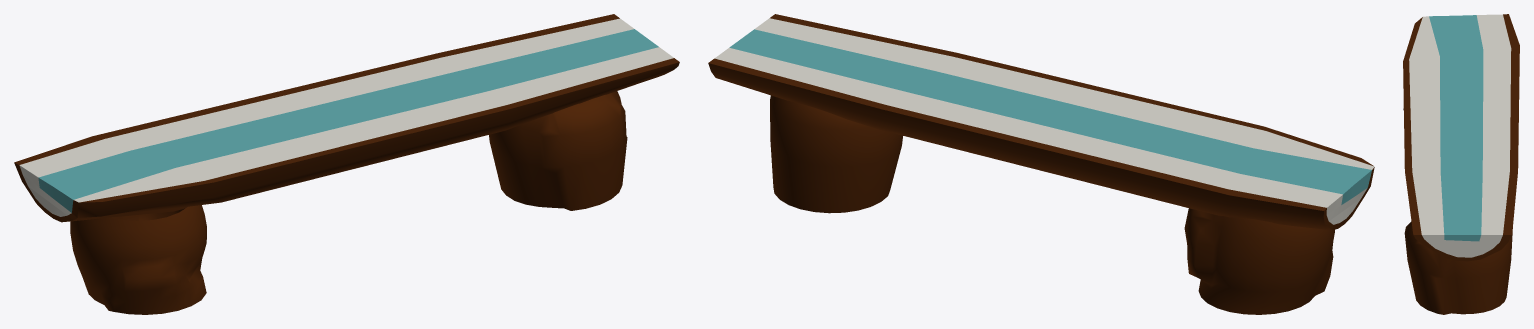
Rendered from Enviro_LogBenche.fbx.
3 renders of one model, left to right at view 1: azimuth 30°, elevation 25°; view 2: azimuth 150°, elevation 25°; view 3: azimuth 270°, elevation 25°, orthographic. The views are drawn at different scales.
Parts seen in each view (by area): view 1: LogBench_BenchTop2, LogBench_Leg6, LogBench_Leg5; view 2: LogBench_BenchTop2, LogBench_Leg6, LogBench_Leg5; view 3: LogBench_BenchTop2, LogBench_Leg5.
Boxes of the visible parts, bbox=[...] form: LogBench_BenchTop2: bbox=[14, 14, 679, 222]; LogBench_Leg6: bbox=[70, 205, 206, 314]; LogBench_Leg5: bbox=[489, 91, 627, 210]; LogBench_BenchTop2: bbox=[708, 14, 1374, 230]; LogBench_Leg6: bbox=[1184, 208, 1334, 314]; LogBench_Leg5: bbox=[770, 95, 902, 213]; LogBench_BenchTop2: bbox=[1403, 14, 1519, 261]; LogBench_Leg5: bbox=[1404, 221, 1512, 314].
Bounding box in the file's own units: 2.89 × 0.5739 × 0.6468.
